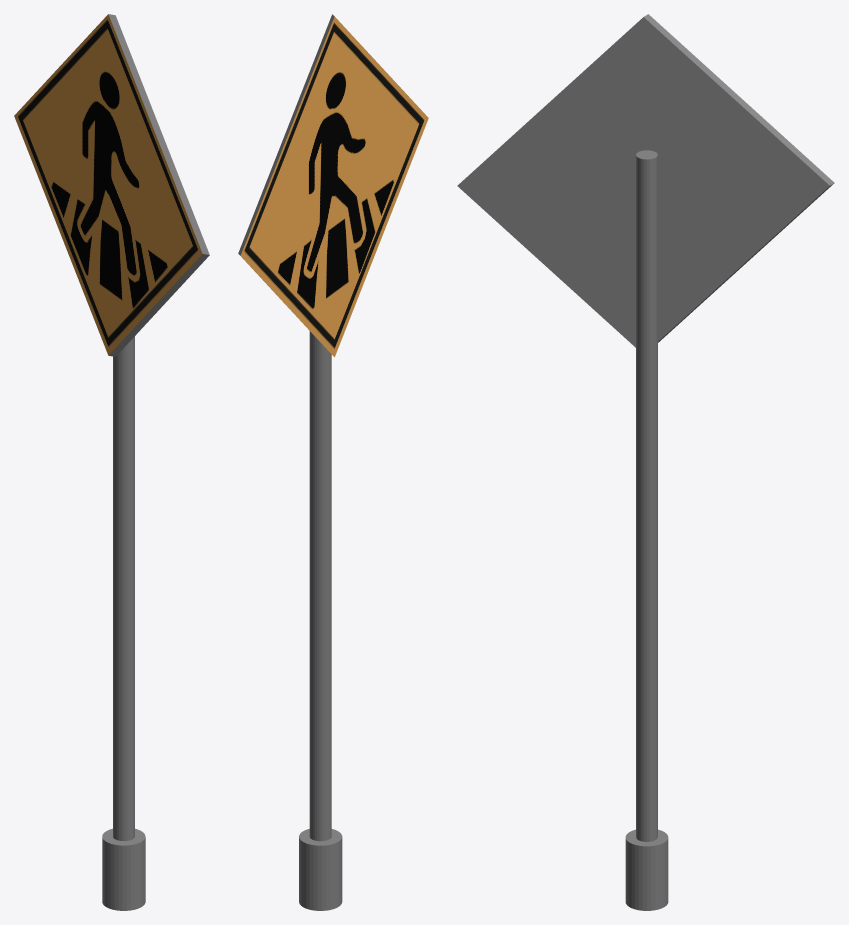
The model's file is P_WALKING SIGN.fbx.
3 views of the same model, side by side, from view 1: azimuth 30°, elevation 25°; view 2: azimuth 150°, elevation 25°; view 3: azimuth 270°, elevation 25° (orthographic).
Parts seen in each view (by area): view 1: Sign 2; view 2: Sign 2; view 3: Sign 2.
Boxes of the visible parts, x1=… form: Sign 2: x1=14, y1=14, x2=209, y2=910; Sign 2: x1=238, y1=14, x2=428, y2=910; Sign 2: x1=457, y1=14, x2=834, y2=910.
Bounding box in the file's own units: 32.51 × 737 × 287.
2 materials, 1 textured.
